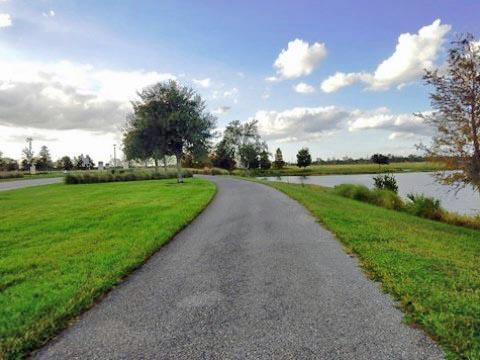overgrown grass: (331, 184, 479, 228)
